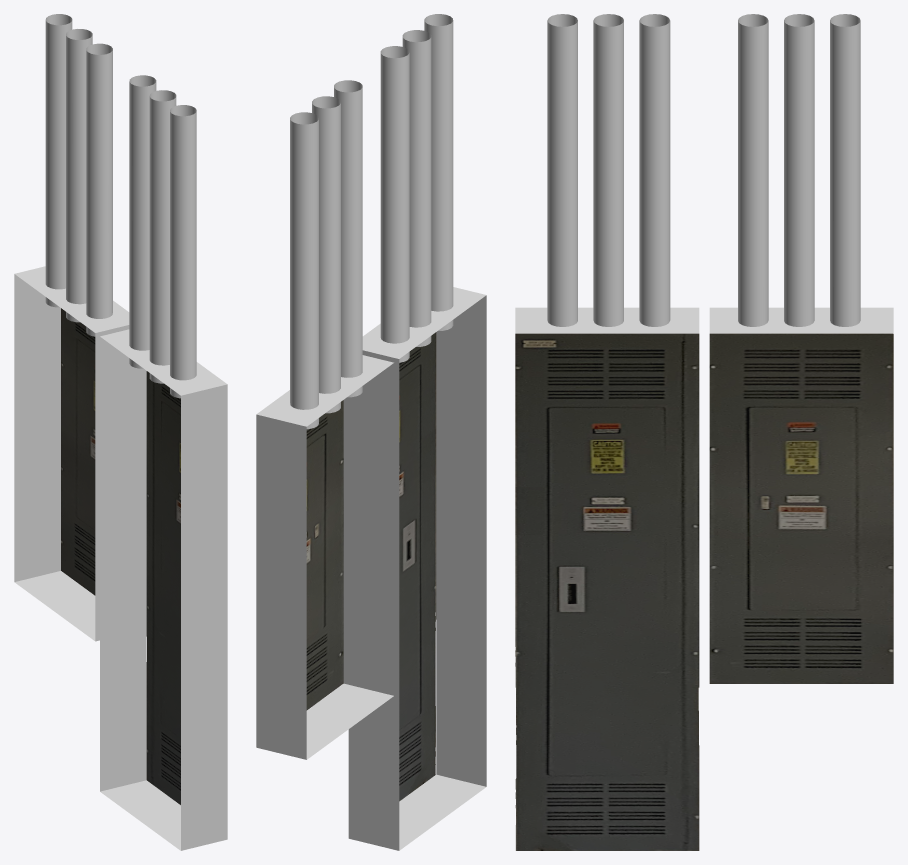
File: control panels.fbx
3 views of the same model, side by side, from view 1: azimuth 30°, elevation 25°; view 2: azimuth 150°, elevation 25°; view 3: azimuth 270°, elevation 25° (orthographic). The views are drawn at different scales.
Visible parts, largest first — view 1: Cube, Cube.001, Cylinder, Cylinder.001; view 2: Cube, Cube.001, Cylinder, Cylinder.001; view 3: Cube, Cube.001, Cylinder, Cylinder.001.
Boxes of the visible parts, x1,y1,x2,y2 form: Cube: (100,329,227,850); Cube.001: (14,266,129,641); Cylinder: (129,75,196,398); Cylinder.001: (45,14,112,336); Cube: (348,287,486,850); Cube.001: (256,355,394,759); Cylinder: (380,14,453,362); Cylinder.001: (290,80,362,429); Cube: (515,307,699,850); Cube.001: (709,307,893,683); Cylinder: (547,14,670,326); Cylinder.001: (738,14,860,326).
Bounding box in the file's own units: 20.32 × 299 × 125.
